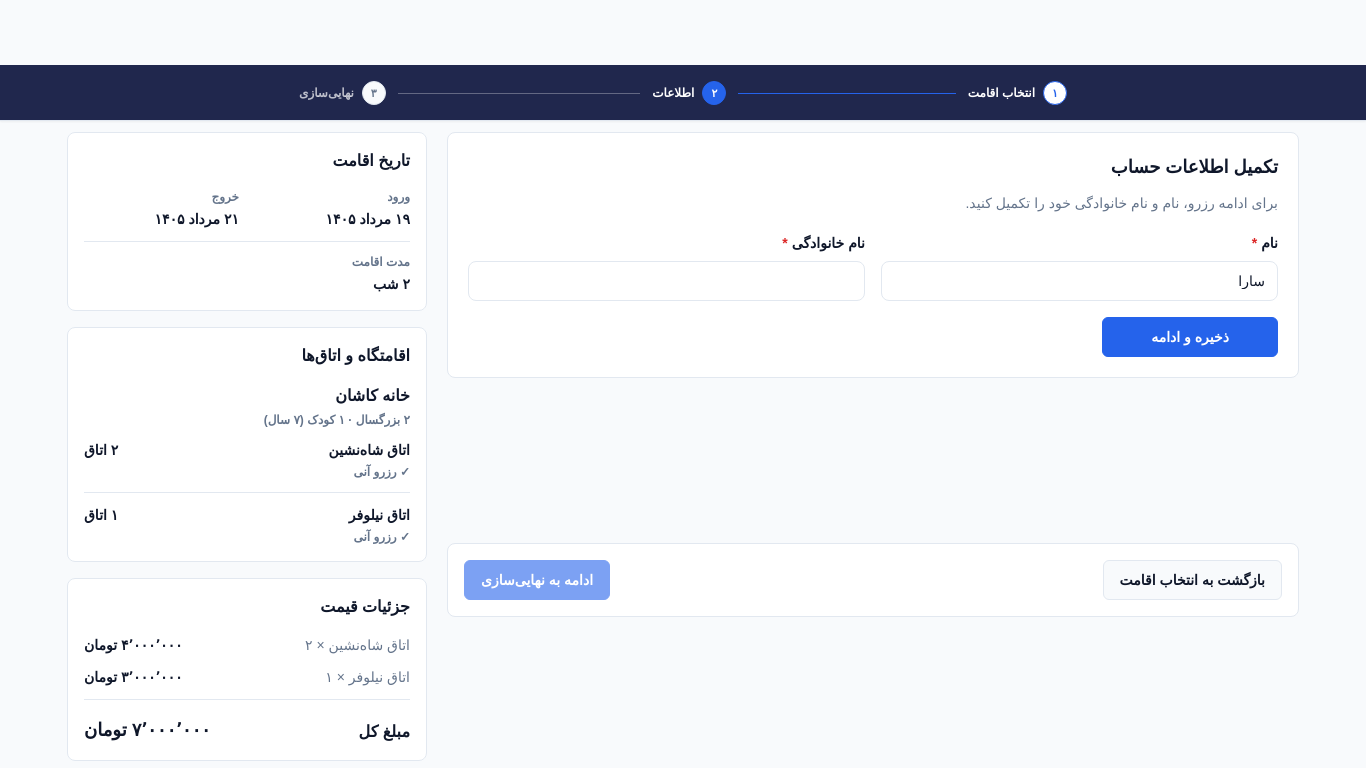
Test: multi-step booking checkout skeleton › preserves entered identity and checkout state when profile completion fails
In the field labelled "نام خانوادگی*": (666, 281) [468,261,865,301], type "احمدی"
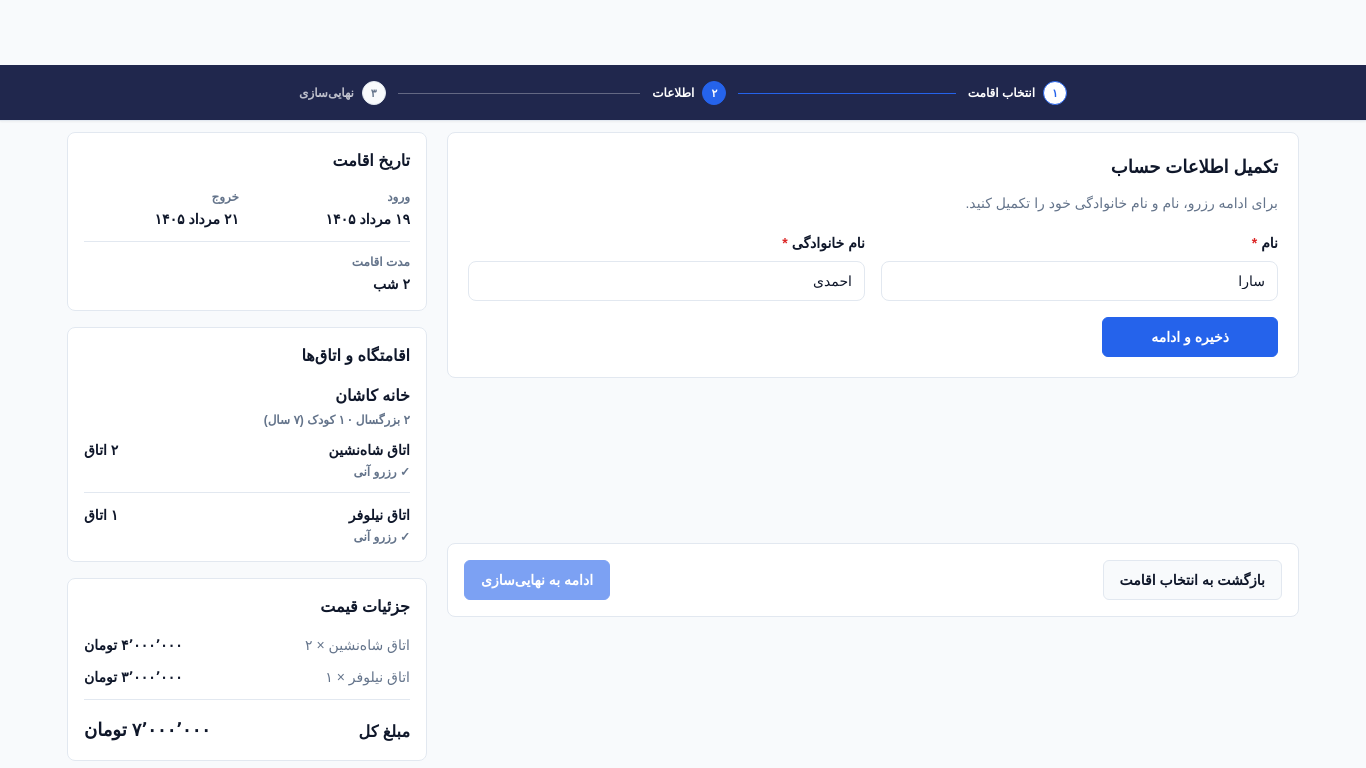
Click the button "ذخیره و ادامه": (1190, 337) [1102,317,1278,357]
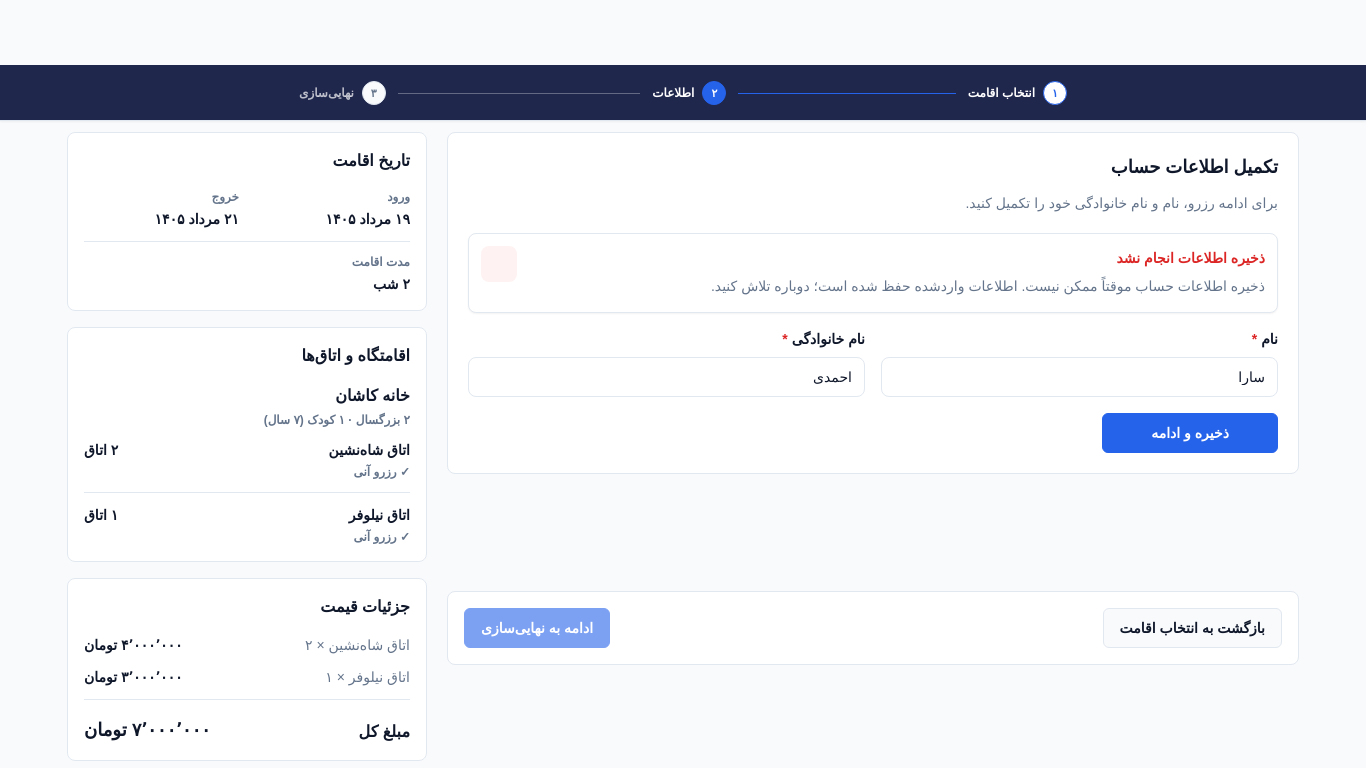
Check: the button "ادامه به نهایی‌سازی" is disabled, box [464,608,610,648]
Check: the text "ذخیره اطلاعات حساب موقتاً ممکن نیست" is shown, box [711,278,1265,294]
